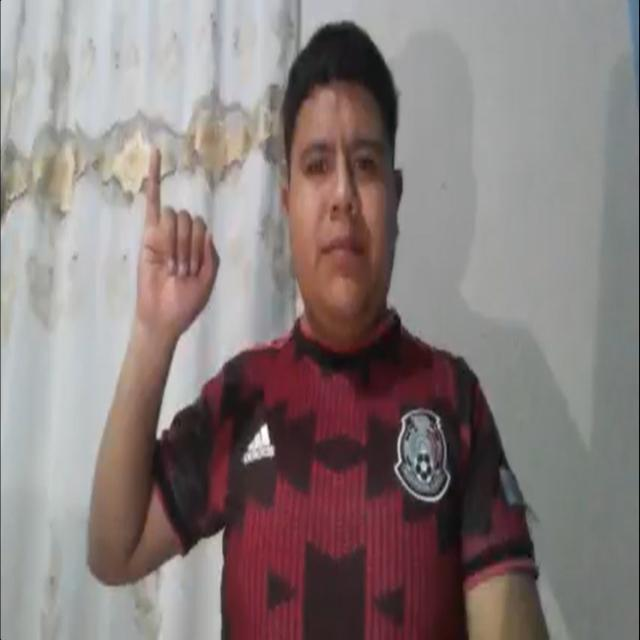I: (121, 137, 227, 366)
